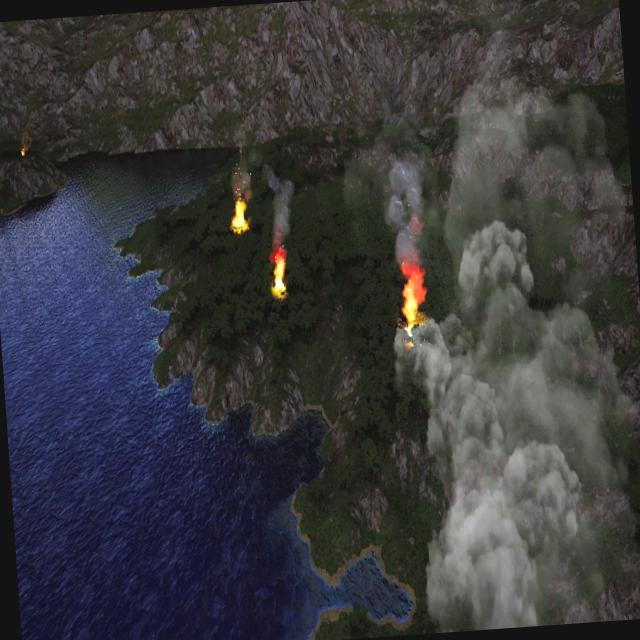fire: (399, 261, 429, 323), (268, 246, 289, 294), (230, 199, 248, 232), (19, 147, 26, 155)
smoke: (376, 74, 640, 634), (382, 153, 428, 264), (266, 166, 294, 243), (228, 149, 253, 192)
